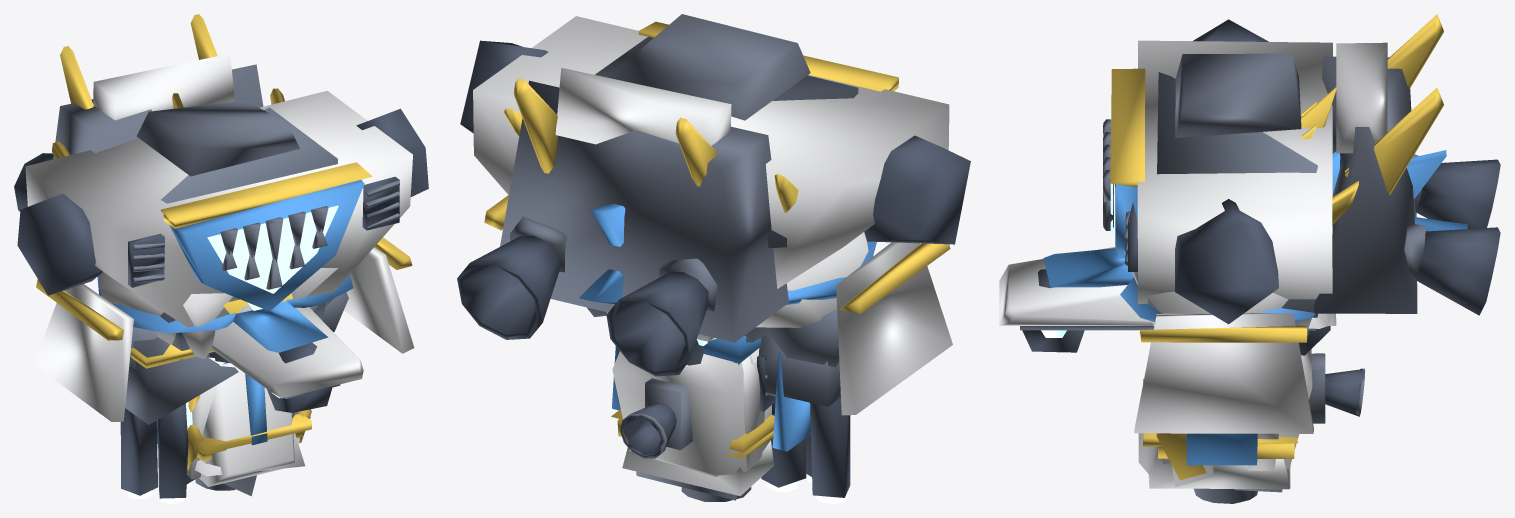
File: rampart-lod2.glb
3 renders of one model, left to right at view 1: azimuth 30°, elevation 25°; view 2: azimuth 150°, elevation 25°; view 3: azimuth 270°, elevation 25°, orthographic. The views are drawn at different scales.
Visible parts, largest first — view 1: chest/P, chest/F, hips/P, chest/D, chest/S, kneeL/P, ankleL/P, chest/T, chest/K, elR/D, elR/F, chest/G (+12 smaller); view 2: chest/F, chest/P, chest/D, hips/P, kneeL/P, chest/T, elR/D, shR/P, elR/F, hips/T, hips/K, kneeL/F (+10 smaller); view 3: chest/P, chest/F, chest/D, hips/P, chest/T, chest/K, ankleL/P, kneeL/P, ankleL/S, hips/T, hipL/S, elL/T (+12 smaller).
Part boxes in pixels (left/top/right/bottom): chest/P: left=25, top=53, right=412, bottom=331; chest/F: left=53, top=64, right=328, bottom=289; hips/P: left=34, top=247, right=414, bottom=421; chest/D: left=14, top=108, right=428, bottom=295; chest/S: left=169, top=180, right=364, bottom=311; kneeL/P: left=157, top=300, right=304, bottom=486; ankleL/P: left=211, top=307, right=363, bottom=398; chest/T: left=60, top=14, right=372, bottom=228; chest/K: left=133, top=107, right=399, bottom=322; elR/D: left=120, top=403, right=196, bottom=498; elR/F: left=125, top=337, right=238, bottom=424; chest/G: left=207, top=205, right=338, bottom=293; chest/F: left=500, top=14, right=810, bottom=342; chest/P: left=473, top=16, right=949, bottom=288; chest/D: left=457, top=40, right=970, bottom=376; hips/P: left=836, top=242, right=952, bottom=415; kneeL/P: left=612, top=351, right=773, bottom=496; chest/T: left=513, top=21, right=898, bottom=186; elR/D: left=761, top=397, right=850, bottom=497; shR/P: left=756, top=232, right=868, bottom=327; elR/F: left=758, top=334, right=840, bottom=406; hips/T: left=484, top=195, right=950, bottom=313; hips/K: left=587, top=307, right=839, bottom=366; kneeL/F: left=620, top=378, right=692, bottom=458; chest/P: left=1137, top=40, right=1387, bottom=304; chest/F: left=1103, top=53, right=1425, bottom=313; chest/D: left=1128, top=19, right=1500, bottom=324; hips/P: left=1134, top=313, right=1313, bottom=433; chest/T: left=1110, top=14, right=1443, bottom=194; chest/K: left=1124, top=72, right=1317, bottom=317; ankleL/P: left=999, top=247, right=1336, bottom=328; kneeL/P: left=1138, top=349, right=1312, bottom=489; ankleL/S: left=1043, top=248, right=1133, bottom=287; hips/T: left=1139, top=326, right=1307, bottom=342; hipL/S: left=1186, top=433, right=1257, bottom=465; elL/T: left=1156, top=433, right=1294, bottom=480.
Bounding box in the file's own units: 4.39 × 4.35 × 4.51.
